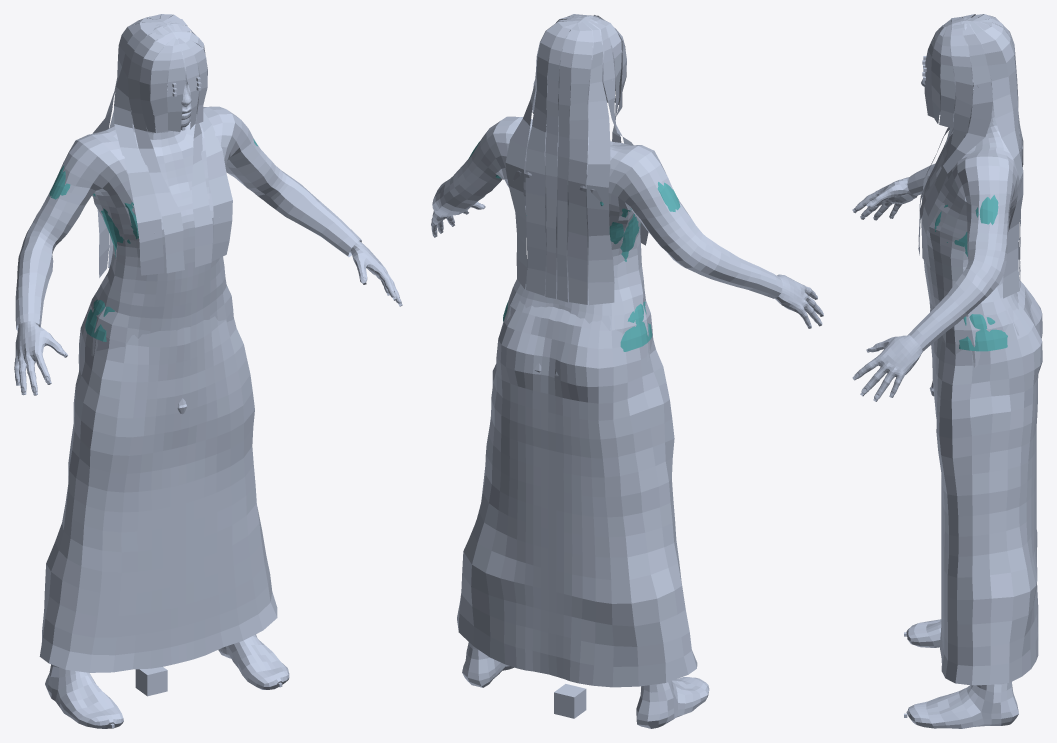
The model's file is makeclothes-hm08-scrub-shirt-library.glb.
3 renders of one model, left to right at view 1: azimuth 30°, elevation 25°; view 2: azimuth 150°, elevation 25°; view 3: azimuth 270°, elevation 25°, orthographic.
Parts seen in each view (by area): view 1: hm08_basemesh_library, makeclothes_library_scrub_shirt; view 2: hm08_basemesh_library, makeclothes_library_scrub_shirt; view 3: hm08_basemesh_library, makeclothes_library_scrub_shirt.
Boxes of the visible parts, x1,y1,x2,y2 form: hm08_basemesh_library: [14, 14, 402, 728]; makeclothes_library_scrub_shirt: [49, 139, 257, 341]; hm08_basemesh_library: [431, 14, 823, 728]; makeclothes_library_scrub_shirt: [468, 141, 680, 351]; hm08_basemesh_library: [852, 14, 1042, 728]; makeclothes_library_scrub_shirt: [934, 195, 1007, 351].
Bounding box in the file's own units: 1.03 × 1.76 × 0.4528.
